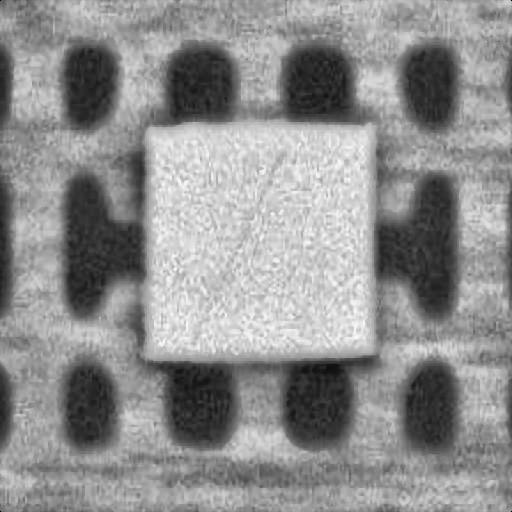DIE_CRACK: (286, 97, 422, 227)
